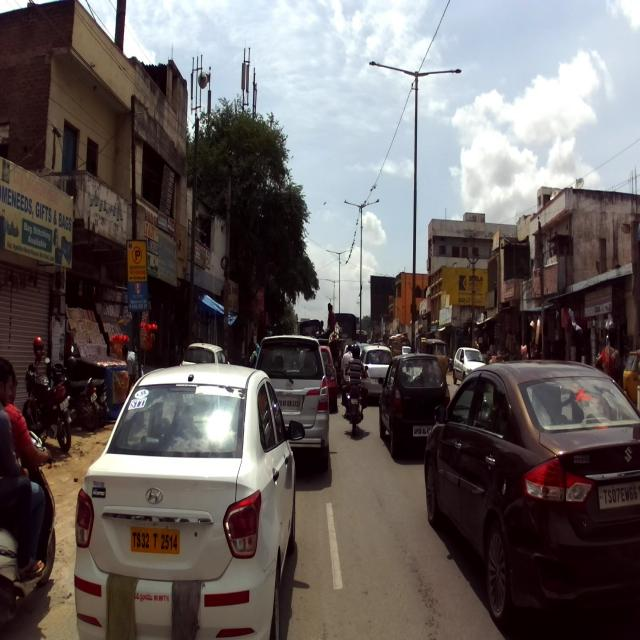Car_Hyundai: (73, 362, 305, 640)
Car_Maruti-Suzuki: (423, 358, 640, 630), (378, 352, 450, 457)
Car_Toyota: (256, 333, 334, 470)
motorcycle_Hero: (45, 352, 100, 433), (340, 363, 368, 438)
motorcycle_Honda: (22, 337, 77, 454)
motorcycle_TVS: (65, 345, 110, 430)
scooter: (0, 417, 58, 634)
